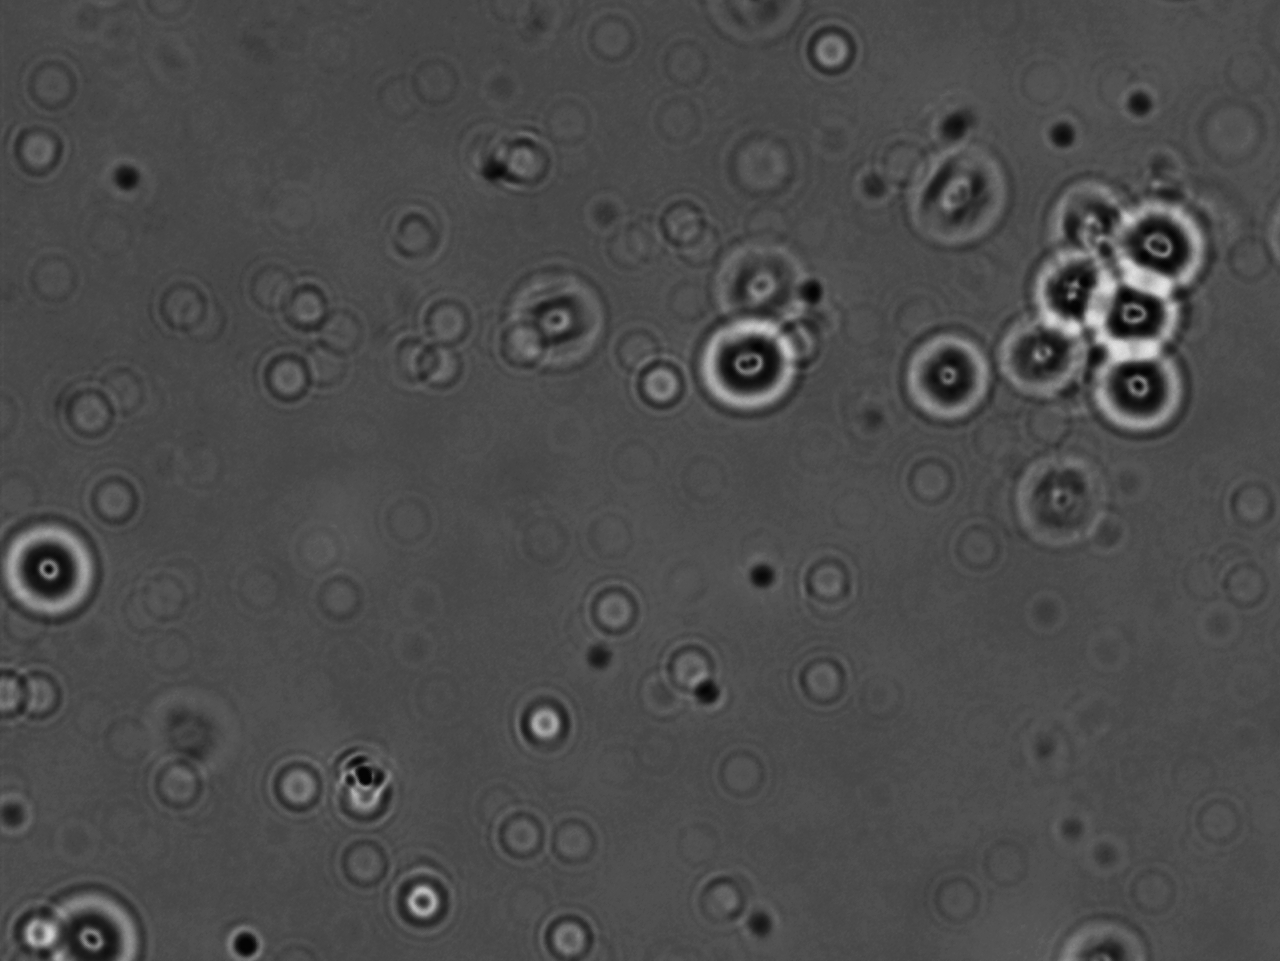depth:-8: (690, 306, 801, 425), (1083, 342, 1190, 446), (889, 320, 992, 428), (987, 305, 1088, 414), (32, 878, 161, 961), (1112, 191, 1212, 292), (1095, 273, 1189, 366), (1030, 240, 1116, 326)
